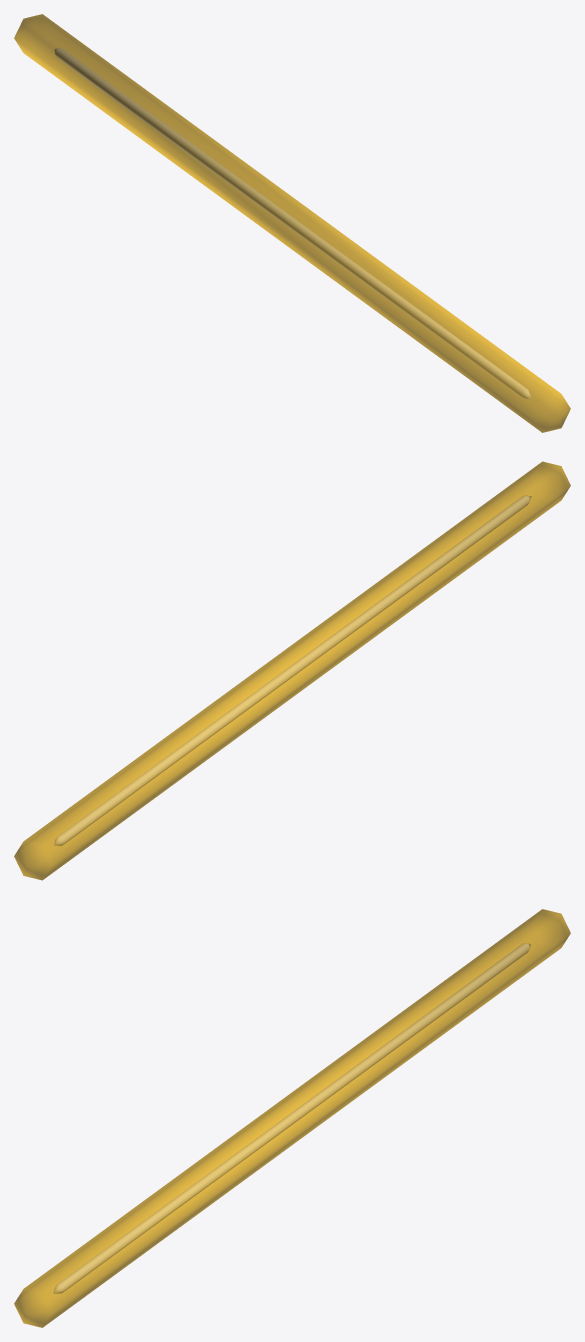
File: orange_laser_model.fbx
The picture shows the model from 3 angles, top to bottom: view 1: azimuth 30°, elevation 25°; view 2: azimuth 150°, elevation 25°; view 3: azimuth 330°, elevation 25°; orthographic projection.
Parts seen in each view (by area): view 1: glow, bolt; view 2: glow, bolt; view 3: glow, bolt.
Boxes of the visible parts, left/top/right/bottom form: glow: left=14, top=14, right=570, bottom=432; bolt: left=54, top=48, right=531, bottom=398; glow: left=14, top=461, right=570, bottom=880; bolt: left=54, top=495, right=531, bottom=845; glow: left=14, top=909, right=570, bottom=1327; bolt: left=53, top=943, right=530, bottom=1293.
Size of the model in its own units: 3.15 by 2.73 by 76.43.
